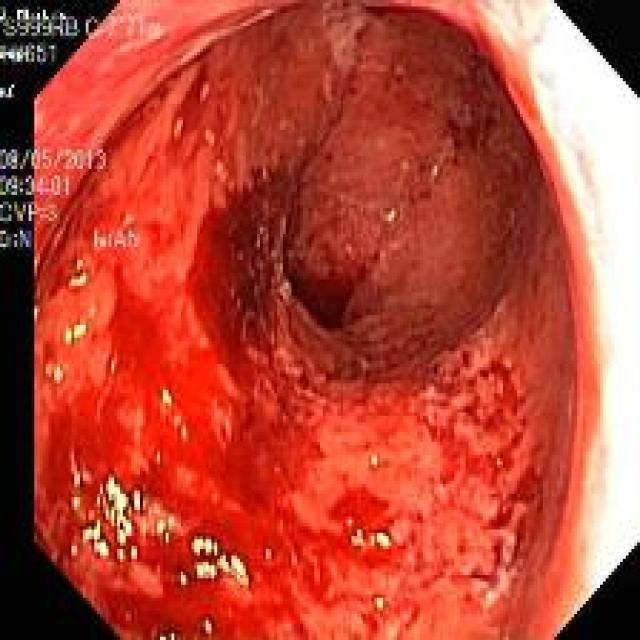ulcerative-colitis-grade-3: (36, 4, 578, 639)
